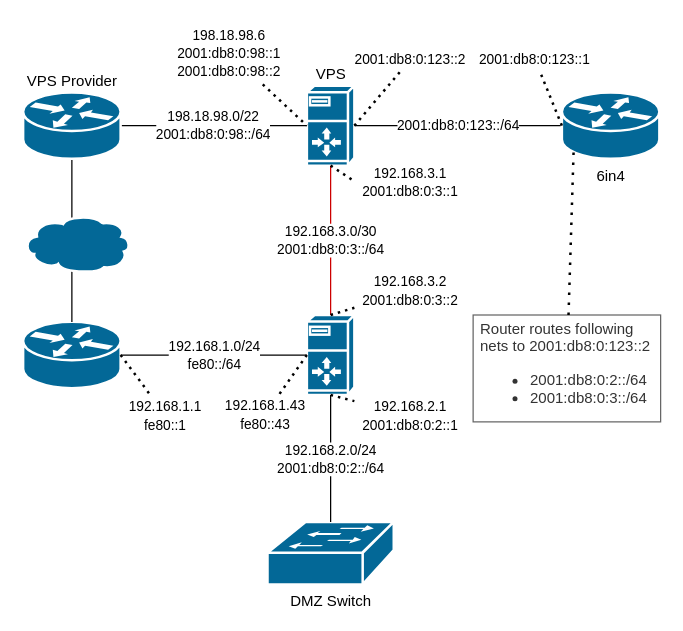
This 683x631 diagram has some shape labels left out. Each missing label, with the box of its shape:
DMZ Router: (305, 313, 355, 396)
Home Router: (21, 320, 121, 389)
